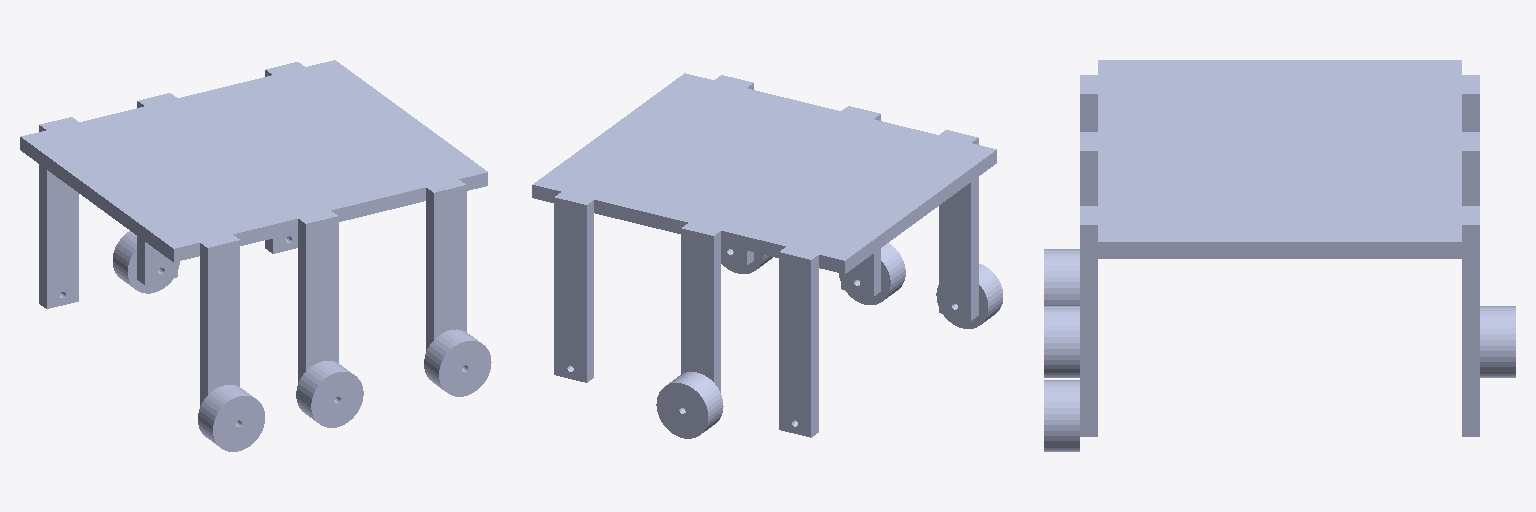
The robot description file, URDF, robot "BasicRover":
<?xml version="1.0" encoding="utf-8"?>
<!-- This URDF was automatically created by SolidWorks to URDF Exporter! Originally created by [author] ([email redacted]) 
     Commit Version: 1.6.0-1-g15f4949  Build Version: 1.6.7594.29634
     For more information, please see http://wiki.ros.org/sw_urdf_exporter -->
<robot
  name="BasicRover">
  <link
    name="base_link">
    <inertial>
      <origin
        xyz="0.020316 0.083324 -0.009927"
        rpy="0 0 0" />
      <mass
        value="11.153" />
      <inertia
        ixx="0.49006"
        ixy="-0.0043996"
        ixz="4.0854E-17"
        iyy="0.75865"
        iyz="2.4555E-17"
        izz="0.43276" />
    </inertial>
    <visual>
      <origin
        xyz="0 0 0"
        rpy="0 0 0" />
      <geometry>
        <mesh
          filename="package://BasicRover/meshes/base_link.STL" />
      </geometry>
      <material
        name="">
        <color
          rgba="0.79216 0.81961 0.93333 1" />
      </material>
    </visual>
    <collision>
      <origin
        xyz="0 0 0"
        rpy="0 0 0" />
      <geometry>
        <mesh
          filename="package://BasicRover/meshes/base_link.STL" />
      </geometry>
    </collision>
  </link>
  <link
    name="Wheel1">
    <inertial>
      <origin
        xyz="0 0 0.0254"
        rpy="0 0 0" />
      <mass
        value="0.40542" />
      <inertia
        ixx="0.00035283"
        ixy="-1.3553E-20"
        ixz="-1.8705E-20"
        iyy="0.00035283"
        iyz="1.1729E-21"
        izz="0.00053129" />
    </inertial>
    <visual>
      <origin
        xyz="0 0 0"
        rpy="0 0 0" />
      <geometry>
        <mesh
          filename="package://BasicRover/meshes/Wheel1.STL" />
      </geometry>
      <material
        name="">
        <color
          rgba="0.79216 0.81961 0.93333 1" />
      </material>
    </visual>
    <collision>
      <origin
        xyz="0 0 0"
        rpy="0 0 0" />
      <geometry>
        <mesh
          filename="package://BasicRover/meshes/Wheel1.STL" />
      </geometry>
    </collision>
  </link>
  <joint
    name="WJoint1"
    type="continuous">
    <origin
      xyz="-0.1983 -0.27265 -0.1729"
      rpy="1.5708 -1.1698 0" />
    <parent
      link="base_link" />
    <child
      link="Wheel1" />
    <axis
      xyz="0 0 1" />
  </joint>
  <link
    name="Wheel2">
    <inertial>
      <origin
        xyz="2.7756E-17 0 0.0254"
        rpy="0 0 0" />
      <mass
        value="0.40542" />
      <inertia
        ixx="0.00035283"
        ixy="2.7105E-20"
        ixz="-2.1283E-20"
        iyy="0.00035283"
        iyz="-9.4643E-23"
        izz="0.00053129" />
    </inertial>
    <visual>
      <origin
        xyz="0 0 0"
        rpy="0 0 0" />
      <geometry>
        <mesh
          filename="package://BasicRover/meshes/Wheel2.STL" />
      </geometry>
      <material
        name="">
        <color
          rgba="0.79216 0.81961 0.93333 1" />
      </material>
    </visual>
    <collision>
      <origin
        xyz="0 0 0"
        rpy="0 0 0" />
      <geometry>
        <mesh
          filename="package://BasicRover/meshes/Wheel2.STL" />
      </geometry>
    </collision>
  </link>
  <joint
    name="WJoint2"
    type="continuous">
    <origin
      xyz="-0.0078028 -0.27265 -0.1729"
      rpy="1.5708 0.58894 0" />
    <parent
      link="base_link" />
    <child
      link="Wheel2" />
    <axis
      xyz="0 0 1" />
  </joint>
  <link
    name="Wheel3">
    <inertial>
      <origin
        xyz="0 0 0.0254"
        rpy="0 0 0" />
      <mass
        value="0.40542" />
      <inertia
        ixx="0.00035283"
        ixy="-9.9099E-40"
        ixz="-4.927E-37"
        iyy="0.00035283"
        iyz="-1.043E-36"
        izz="0.00053129" />
    </inertial>
    <visual>
      <origin
        xyz="0 0 0"
        rpy="0 0 0" />
      <geometry>
        <mesh
          filename="package://BasicRover/meshes/Wheel3.STL" />
      </geometry>
      <material
        name="">
        <color
          rgba="0.79216 0.81961 0.93333 1" />
      </material>
    </visual>
    <collision>
      <origin
        xyz="0 0 0"
        rpy="0 0 0" />
      <geometry>
        <mesh
          filename="package://BasicRover/meshes/Wheel3.STL" />
      </geometry>
    </collision>
  </link>
  <joint
    name="WJoint3"
    type="continuous">
    <origin
      xyz="0.23985 -0.27265 -0.1729"
      rpy="1.5708 0 0" />
    <parent
      link="base_link" />
    <child
      link="Wheel3" />
    <axis
      xyz="0 0 1" />
  </joint>
  <link
    name="Wheel4">
    <inertial>
      <origin
        xyz="0 0 -0.0254"
        rpy="0 0 0" />
      <mass
        value="0.40542" />
      <inertia
        ixx="0.00035283"
        ixy="-9.9099E-40"
        ixz="-4.927E-37"
        iyy="0.00035283"
        iyz="-1.043E-36"
        izz="0.00053129" />
    </inertial>
    <visual>
      <origin
        xyz="0 0 0"
        rpy="0 0 0" />
      <geometry>
        <mesh
          filename="package://BasicRover/meshes/Wheel4.STL" />
      </geometry>
      <material
        name="">
        <color
          rgba="0.79216 0.81961 0.93333 1" />
      </material>
    </visual>
    <collision>
      <origin
        xyz="0 0 0"
        rpy="0 0 0" />
      <geometry>
        <mesh
          filename="package://BasicRover/meshes/Wheel4.STL" />
      </geometry>
    </collision>
  </link>
  <joint
    name="WJoint4"
    type="continuous">
    <origin
      xyz="0.23985 0.2925 -0.1729"
      rpy="1.5708 0 0" />
    <parent
      link="base_link" />
    <child
      link="Wheel4" />
    <axis
      xyz="0 0 1" />
  </joint>
  <link
    name="Wheel5">
    <inertial>
      <origin
        xyz="8.6736E-19 2.7756E-17 -0.0254"
        rpy="0 0 0" />
      <mass
        value="0.40542" />
      <inertia
        ixx="0.00035283"
        ixy="-9.9099E-40"
        ixz="-4.927E-37"
        iyy="0.00035283"
        iyz="-1.043E-36"
        izz="0.00053129" />
    </inertial>
    <visual>
      <origin
        xyz="0 0 0"
        rpy="0 0 0" />
      <geometry>
        <mesh
          filename="package://BasicRover/meshes/Wheel5.STL" />
      </geometry>
      <material
        name="">
        <color
          rgba="0.79216 0.81961 0.93333 1" />
      </material>
    </visual>
    <collision>
      <origin
        xyz="0 0 0"
        rpy="0 0 0" />
      <geometry>
        <mesh
          filename="package://BasicRover/meshes/Wheel5.STL" />
      </geometry>
    </collision>
  </link>
  <joint
    name="WJoint5"
    type="continuous">
    <origin
      xyz="-0.0078028 0.2925 -0.1729"
      rpy="1.5708 0 0" />
    <parent
      link="base_link" />
    <child
      link="Wheel5" />
    <axis
      xyz="0 0 1" />
  </joint>
  <link
    name="Wheel6">
    <inertial>
      <origin
        xyz="0 0 -0.0254"
        rpy="0 0 0" />
      <mass
        value="0.40542" />
      <inertia
        ixx="0.00035283"
        ixy="-9.9099E-40"
        ixz="-4.927E-37"
        iyy="0.00035283"
        iyz="-1.043E-36"
        izz="0.00053129" />
    </inertial>
    <visual>
      <origin
        xyz="0 0 0"
        rpy="0 0 0" />
      <geometry>
        <mesh
          filename="package://BasicRover/meshes/Wheel6.STL" />
      </geometry>
      <material
        name="">
        <color
          rgba="0.79216 0.81961 0.93333 1" />
      </material>
    </visual>
    <collision>
      <origin
        xyz="0 0 0"
        rpy="0 0 0" />
      <geometry>
        <mesh
          filename="package://BasicRover/meshes/Wheel6.STL" />
      </geometry>
    </collision>
  </link>
  <joint
    name="WJoint6"
    type="continuous">
    <origin
      xyz="-0.1983 0.2925 -0.1729"
      rpy="1.5708 0 0" />
    <parent
      link="base_link" />
    <child
      link="Wheel6" />
    <axis
      xyz="0 0 1" />
  </joint>

  <gazebo>
    <plugin name="object_controller" filename="libgazebo_ros_planar_move.so">
      <commandTopic>cmd_vel</commandTopic>
      <odometryTopic>odom</odometryTopic>
      <odometryFrame>odom</odometryFrame>
      <odometryRate>20.0</odometryRate>
      <robotBaseFrame>base_footprint</robotBaseFrame>
    </plugin>
  </gazebo>
</robot>

--- Facts derived from the render (not from the file) ---
3 views of the same robot in one strip: view 1: azimuth 30°, elevation 25°; view 2: azimuth 150°, elevation 25°; view 3: azimuth 270°, elevation 25° (orthographic).
Model BasicRover with 7 links and 6 joints (6 continuous), rooted at base_link, posed all joints at 0.
Visible links, largest first — view 1: base_link, Wheel1, Wheel3, Wheel2, Wheel5; view 2: base_link, Wheel5, Wheel1, Wheel2; view 3: base_link, Wheel2, Wheel3, Wheel5, Wheel1.
Boxes of the visible links, bbox=[...] form: base_link: bbox=[20, 60, 487, 405]; Wheel1: bbox=[198, 385, 264, 451]; Wheel3: bbox=[424, 329, 491, 396]; Wheel2: bbox=[296, 361, 363, 427]; Wheel5: bbox=[113, 231, 179, 293]; base_link: bbox=[532, 73, 996, 437]; Wheel5: bbox=[656, 372, 723, 438]; Wheel1: bbox=[936, 264, 1002, 328]; Wheel2: bbox=[839, 243, 905, 304]; base_link: bbox=[1080, 60, 1479, 436]; Wheel2: bbox=[1044, 306, 1079, 377]; Wheel3: bbox=[1044, 380, 1079, 451]; Wheel5: bbox=[1480, 306, 1515, 377]; Wheel1: bbox=[1044, 249, 1079, 305].
Size in the robot's own frame: 0.6096 by 0.6668 by 0.3632 metres.
5 mesh visuals loaded from 7 distinct referenced files (5 binary STL); not drawn: 2 (reference not matched to a file when rendering).